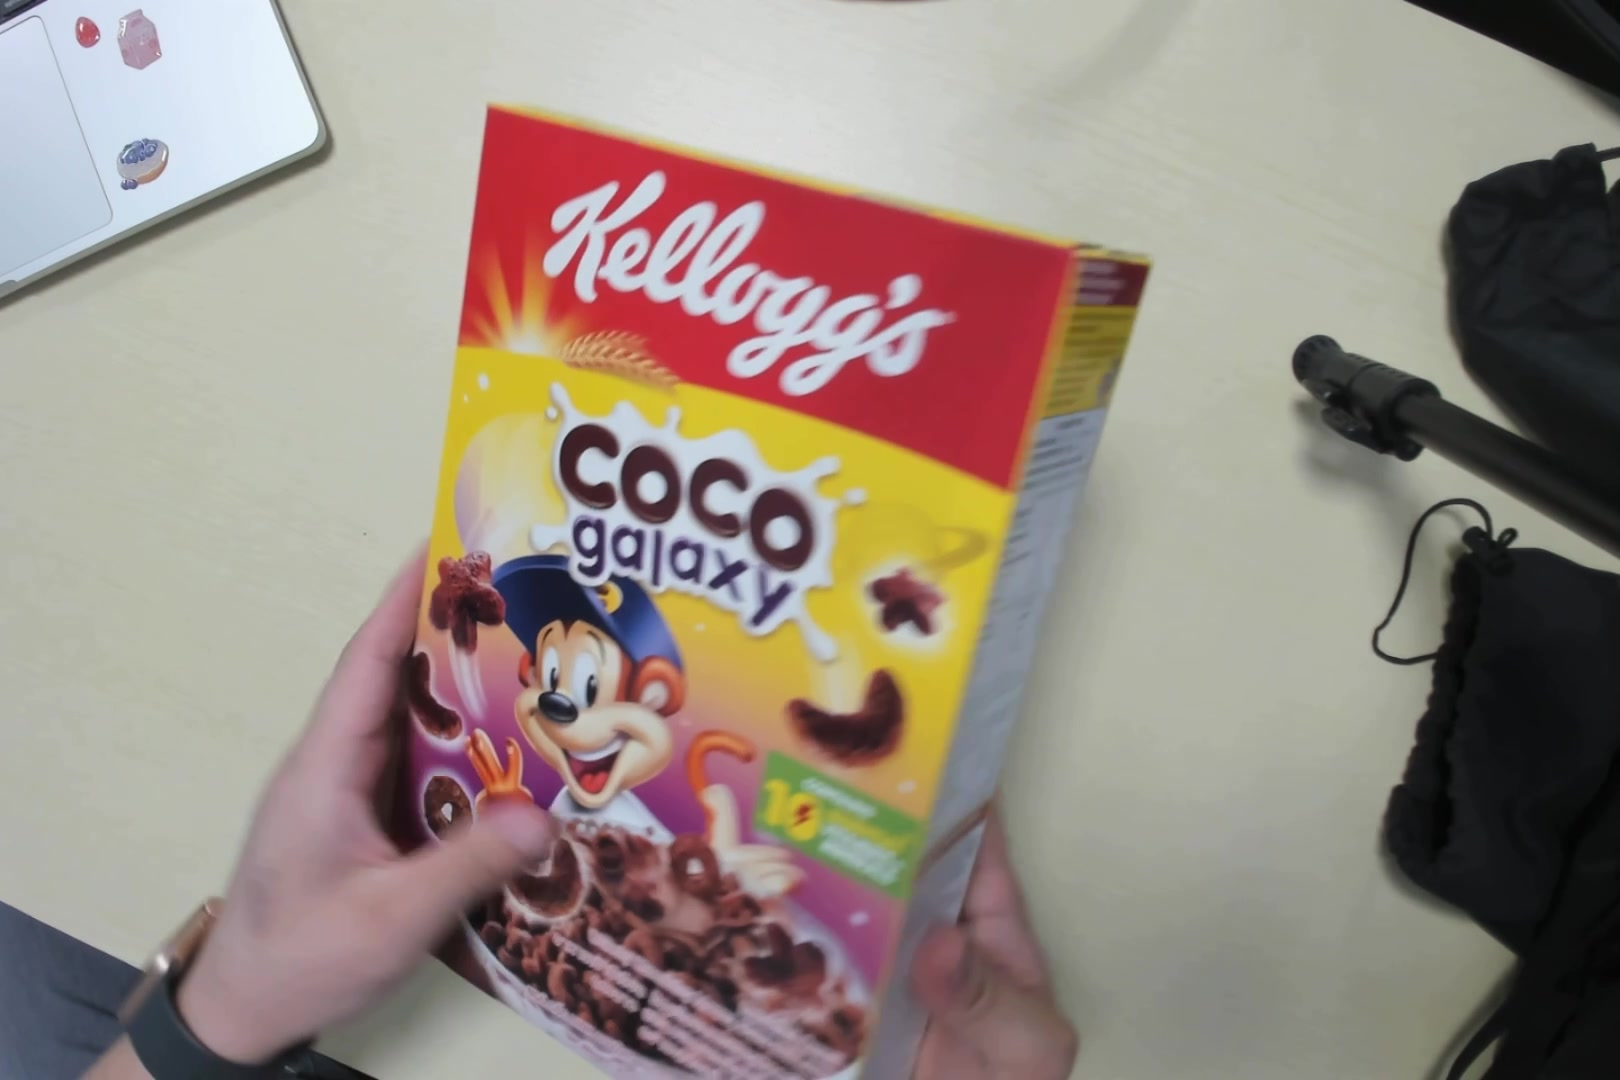BreakfastCereals_300-399g_Halal_NonHealthy: (397, 92, 1149, 1080)
